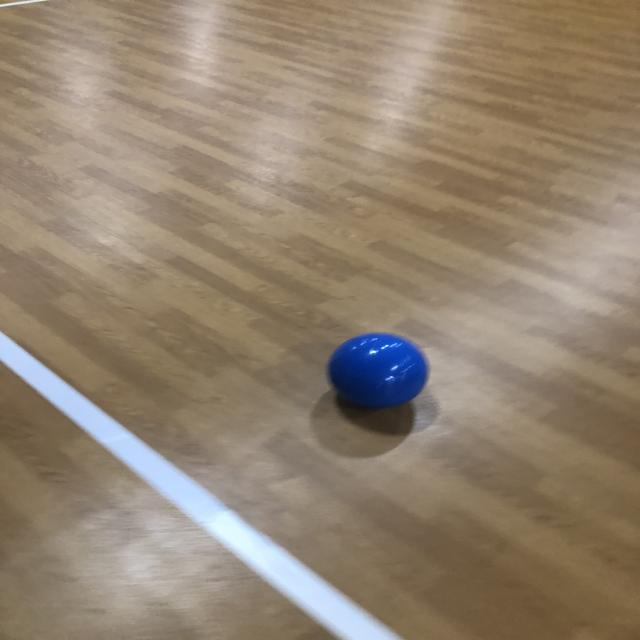blue_ball: (326, 332, 431, 415)
